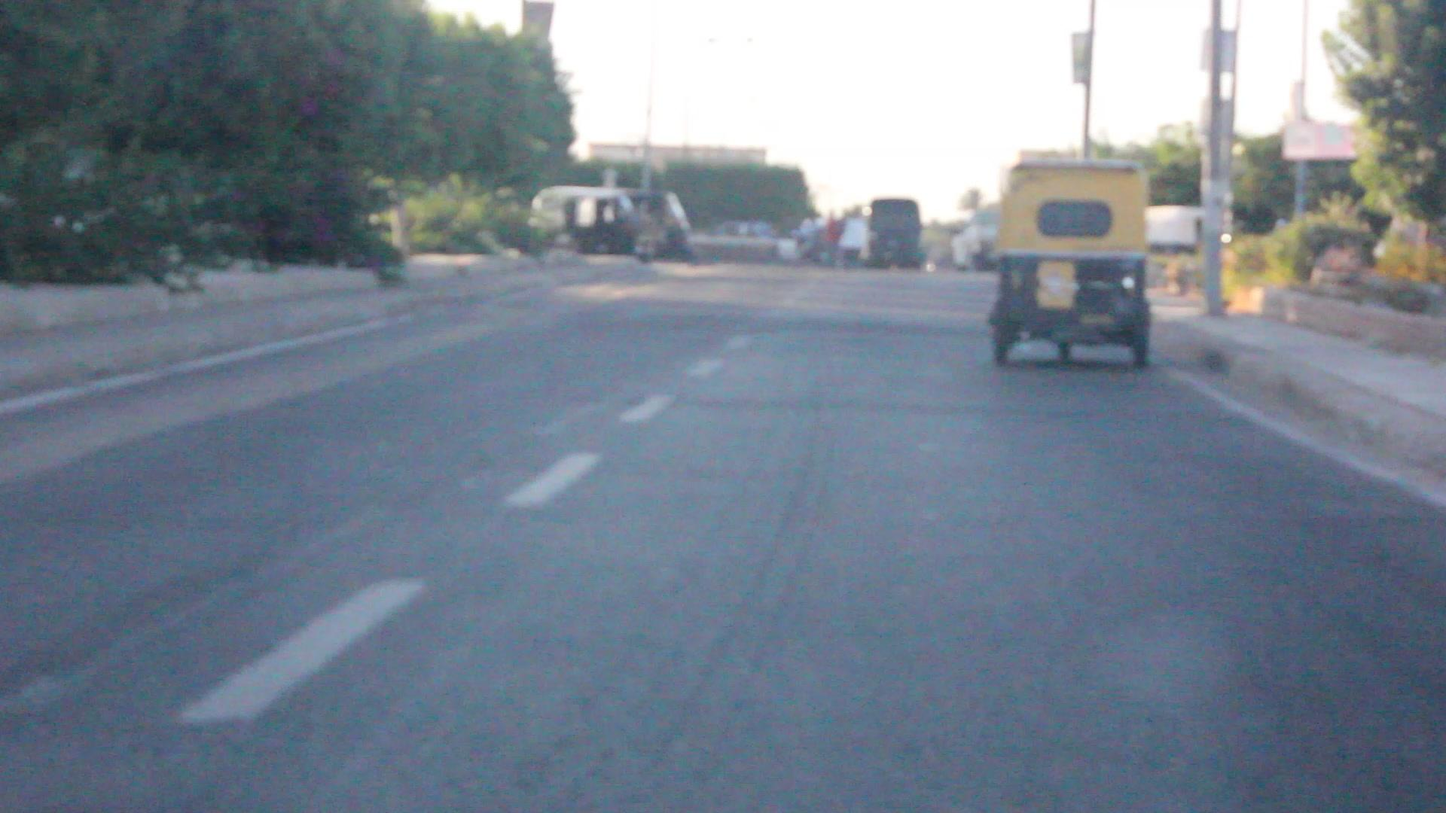Bump: (557, 303, 988, 343)
